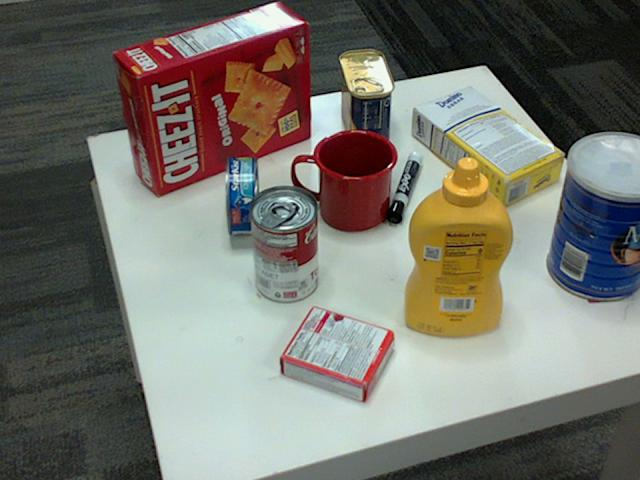cracker_box: (113, 0, 310, 193)
gelatin_box: (277, 306, 392, 404)
large_marker: (386, 155, 422, 223)
master_chef_can: (548, 132, 639, 301)
mug: (292, 127, 398, 230)
mustard_bottle: (403, 158, 513, 335)
potted_meat_can: (336, 50, 392, 149)
sugar_box: (412, 86, 566, 207)
tomato_soup_can: (249, 186, 318, 303)
tuna_fish_can: (223, 156, 259, 235)
